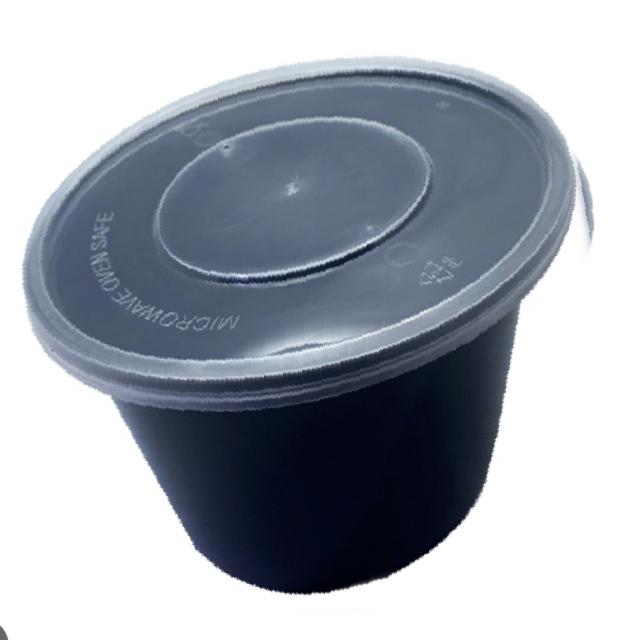recyclable: (19, 25, 634, 638)
